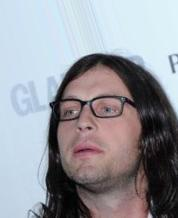face: (61, 97, 121, 159)
